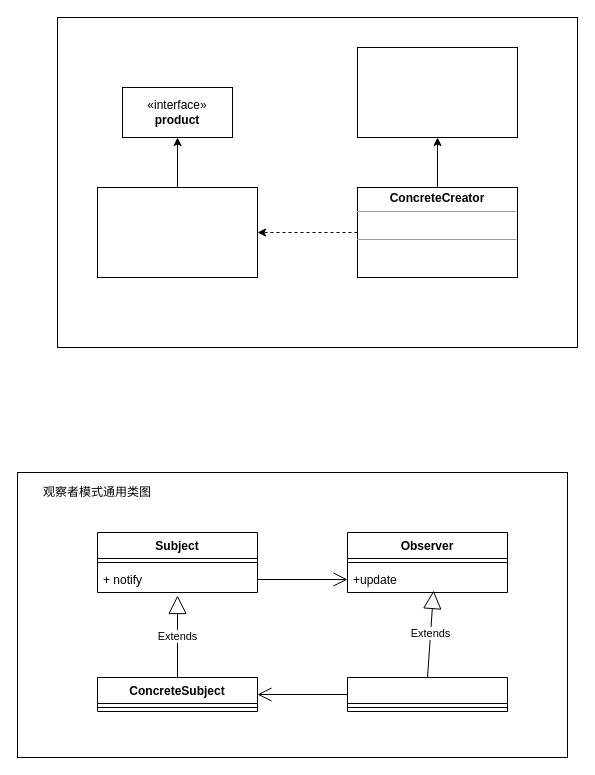
This 595x775 diagram has some shape labels left out. Here are the shapes that lost their labels. From the top down, the centre of each, then its label:
At [437,92]: "Creator".
At [177,232]: "ConcreteProduct".
At [427,694]: "ConcreteObserver".
